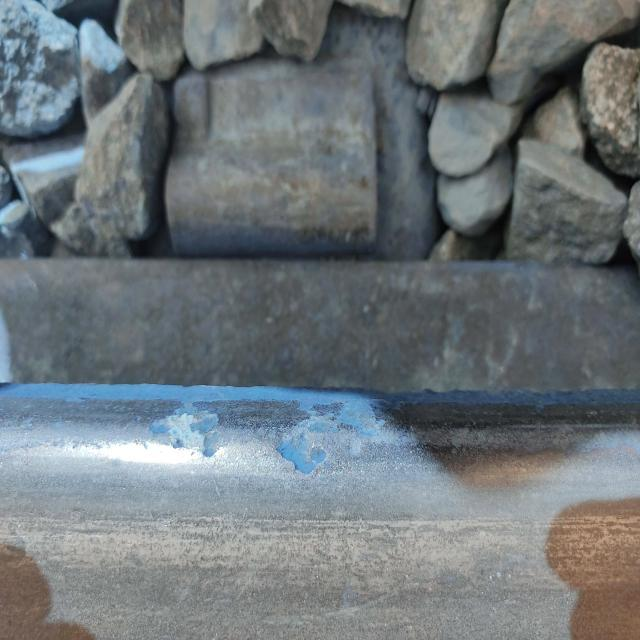head_checks_low: (260, 397, 376, 480), (139, 380, 228, 468)
